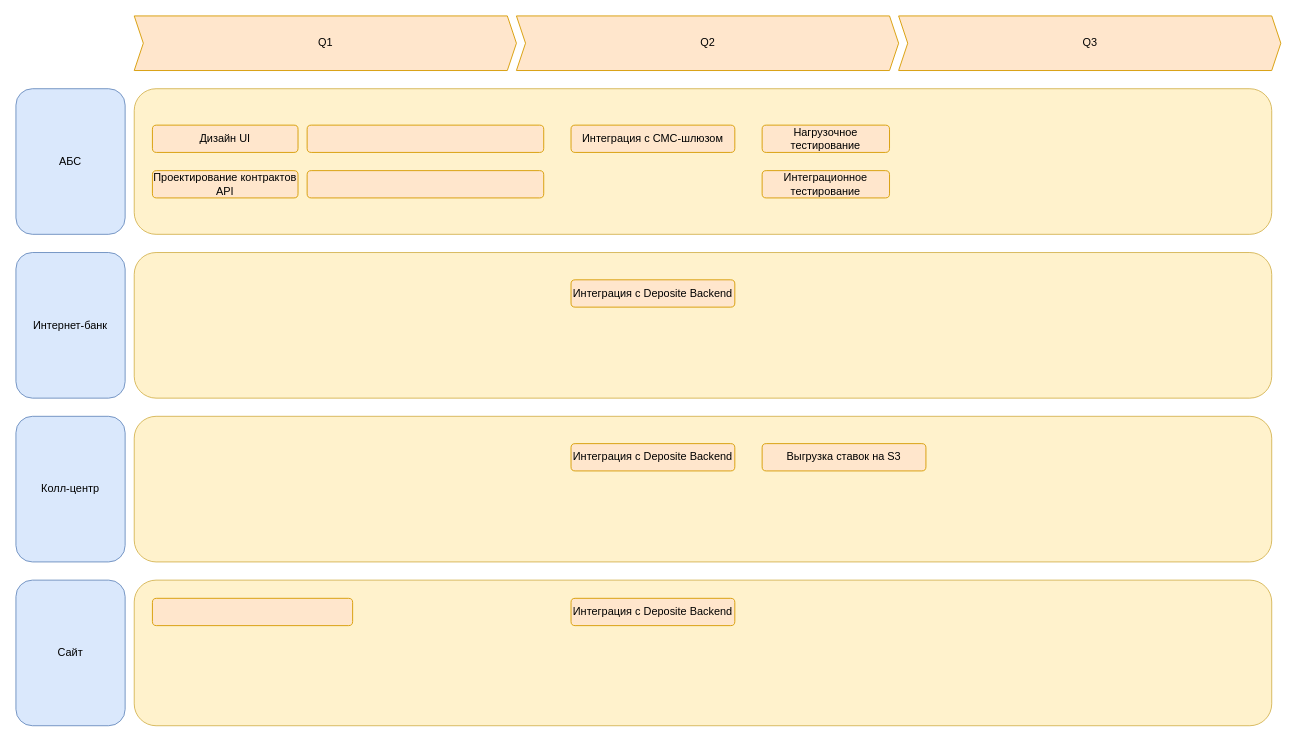
Some shapes in this 1297 by 742 pixel diagram are drawn without their labels. The centre of each missing label's shape, as x and y in pixels:
"Интеграция с колл-центром" goes at [252,611].
"Разработка Backend для депозитов" goes at [425,138].
"Разработка UI для депозитов" goes at [425,184].
